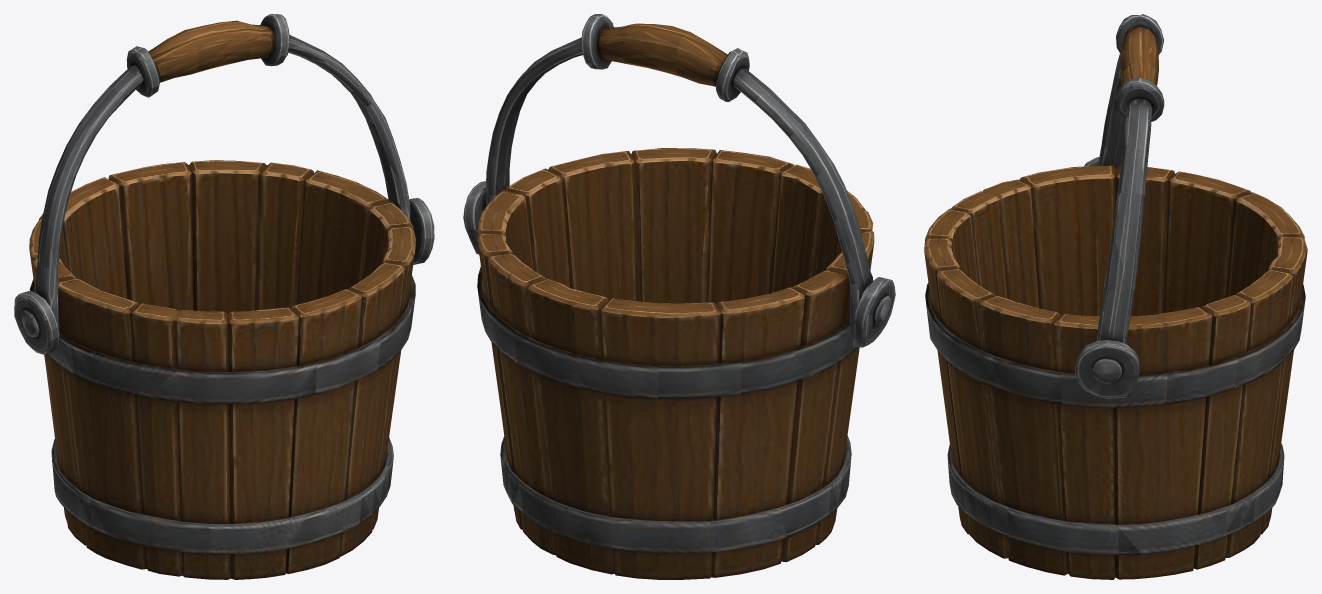
Rendered from EmptyBucket.glb.
The picture shows the model from 3 angles, left to right: view 1: azimuth 30°, elevation 25°; view 2: azimuth 150°, elevation 25°; view 3: azimuth 270°, elevation 25°; orthographic projection. The views are drawn at different scales.
Parts seen in each view (by area): view 1: mesh_node; view 2: mesh_node; view 3: mesh_node.
Boxes of the visible parts, x1,y1,x2,y2 form: mesh_node: (14,14,434,579); mesh_node: (463,14,895,579); mesh_node: (924,14,1307,579).
Bounding box in the file's own units: 0.2806 × 0.32 × 0.2363.
Materials: 1 (1 with a texture image).
